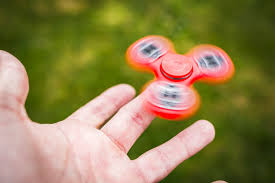fidget_spinner: (116, 25, 237, 121)
